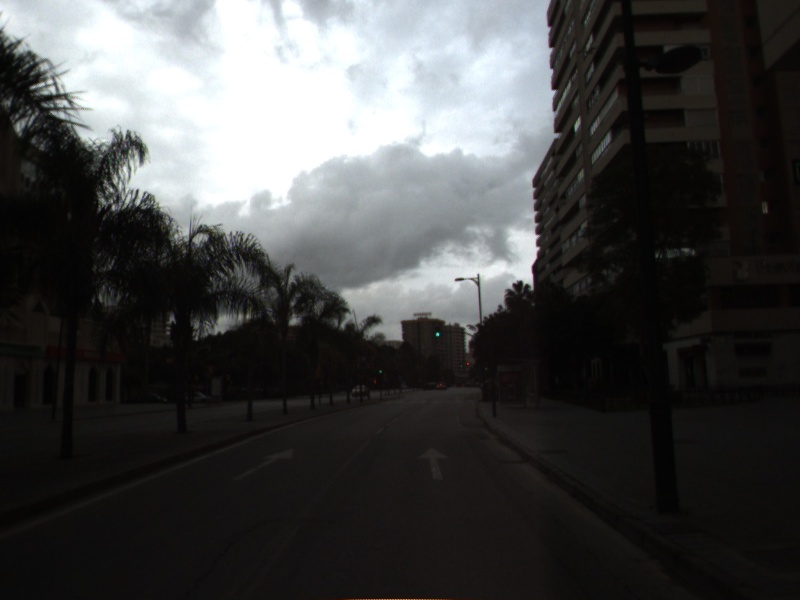STRAIGHT: (230, 446, 297, 483), (415, 443, 452, 483)
